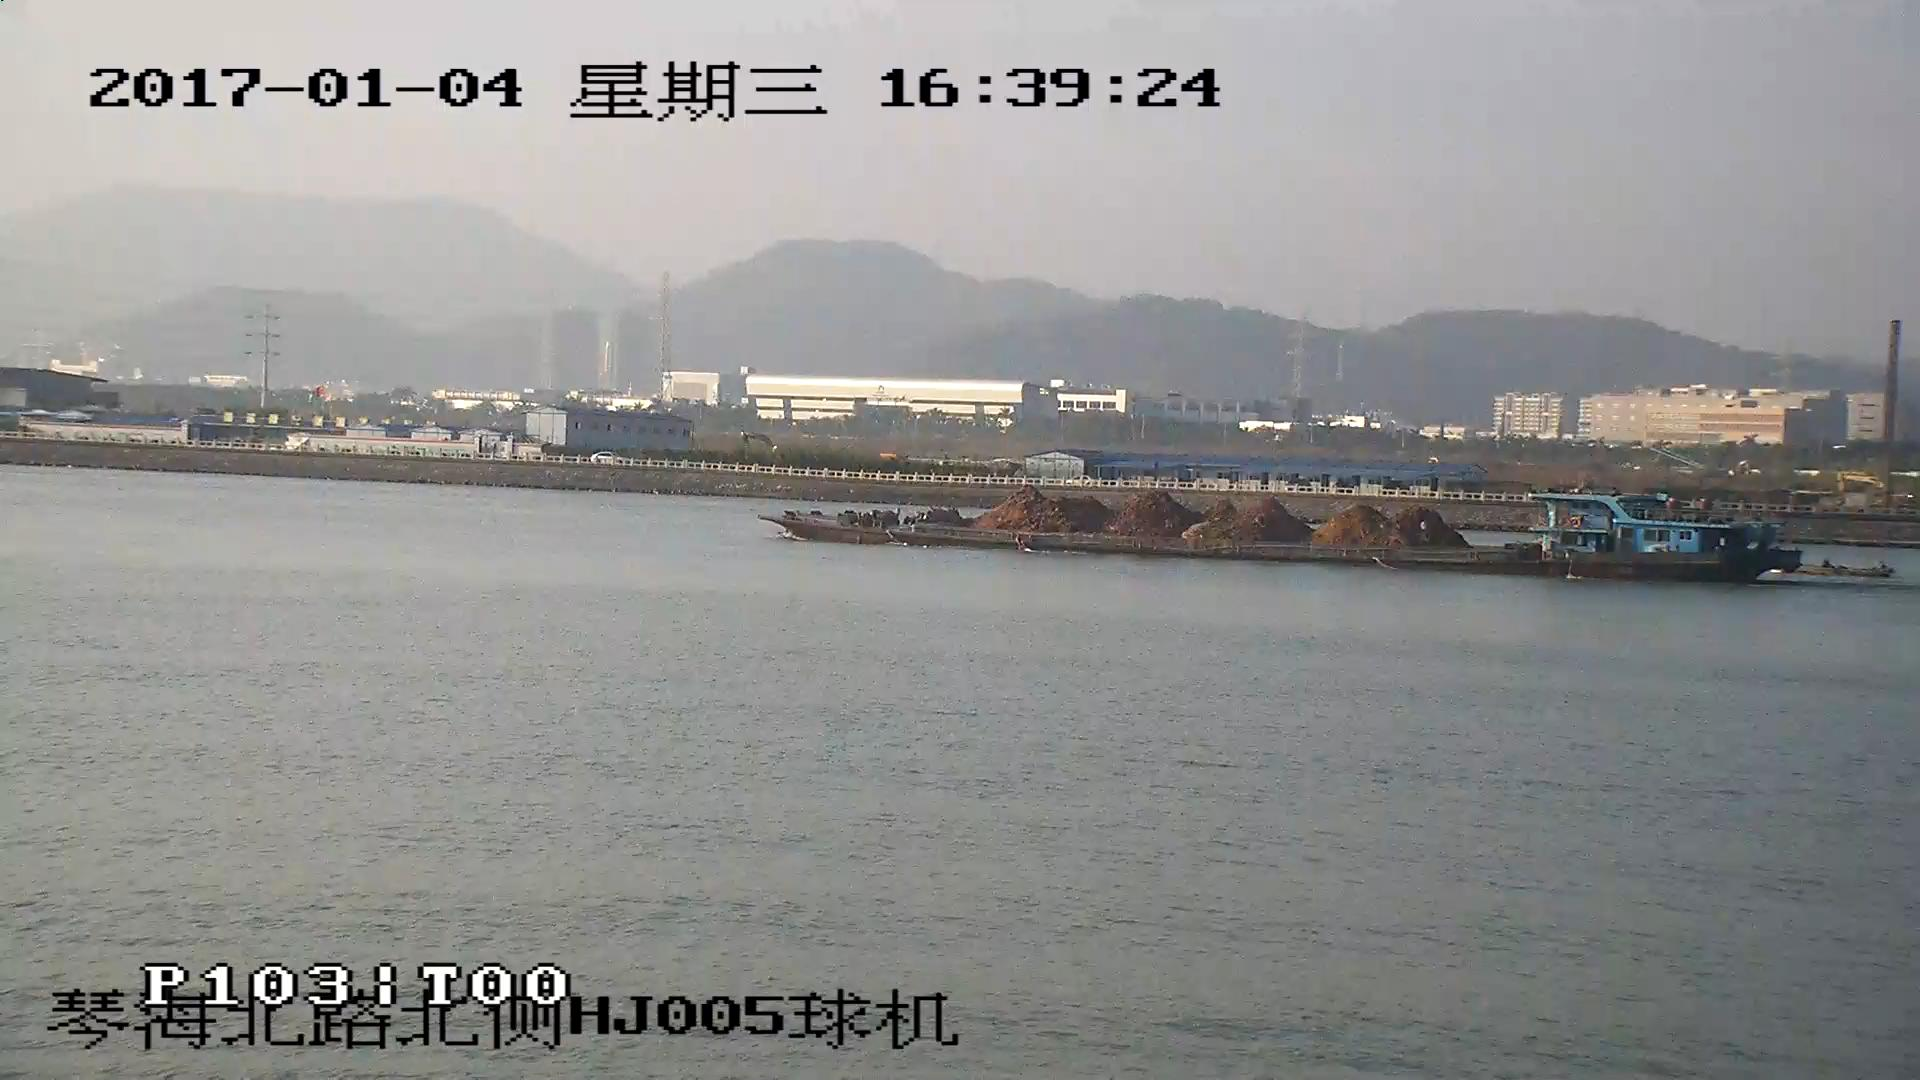ore carrier: (757, 492, 1802, 585)
